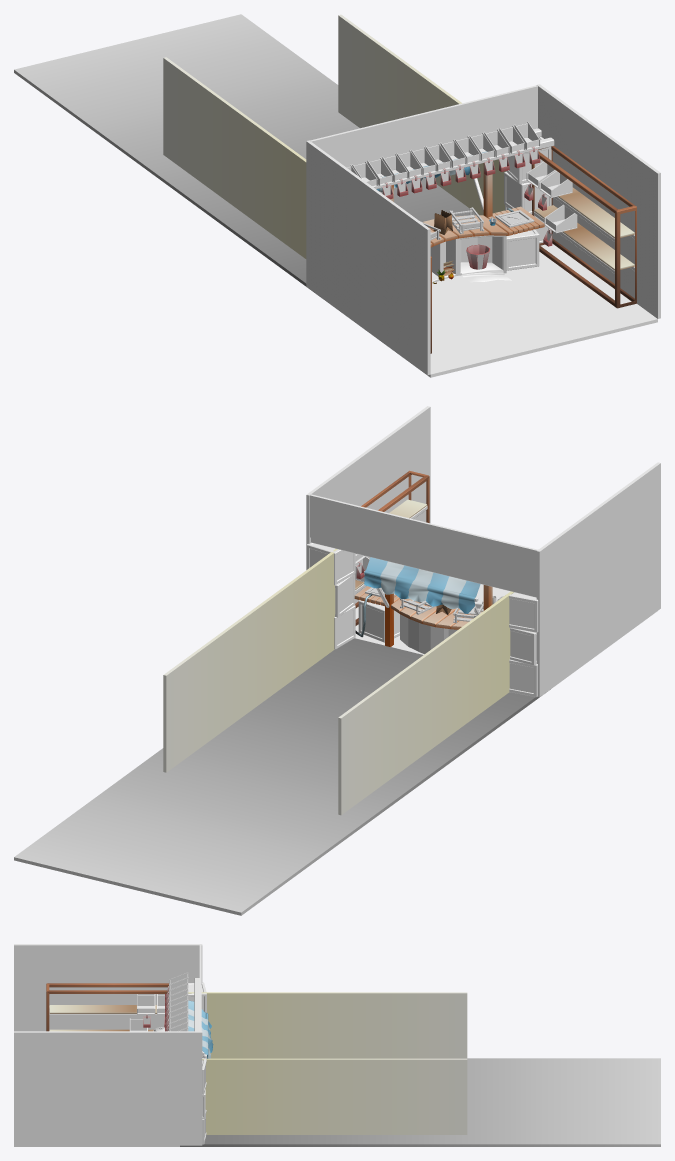
File: FreshFruitsKameral.fbx
3 views of the same model, one above another, from view 1: azimuth 30°, elevation 25°; view 2: azimuth 150°, elevation 25°; view 3: azimuth 270°, elevation 25° (orthographic). The views are drawn at different scales.
Parts seen in each view (by area): view 1: Cube.027, Cube.001, Zemin, Cube.005, Cube, Cube.004, Cube.008, RafAnaStrüktür.001, tezgah altı, KutuArkaSağ, Masa üstü tahta, KutuSağ (+6 smaller); view 2: Cube.027, Cube.001, Cube.005, Cube.004, Cube.008, Cube, Çatıörtü, KutuArkaSol, KutuArkaSağ, Masa üstü tahta, Cube.002, tezgah altı (+3 smaller); view 3: Cube, Cube.027, Cube.004, Cube.005, Cube.001, RafAnaStrüktür, Raf, Çatıörtü, KasaPlane.003, KutuArkaSağ, Yatay raf çunuk, Zemin (+1 smaller).
Boxes of the visible parts, x1=… form: Cube.027: x1=14, y1=14, x2=475, y2=298; Cube.001: x1=306, y1=140, x2=430, y2=375; Zemin: x1=325, y1=243, x2=657, y2=377; Cube.005: x1=163, y1=57, x2=306, y2=258; Cube: x1=537, y1=84, x2=660, y2=318; Cube.004: x1=338, y1=14, x2=505, y2=215; Cube.008: x1=310, y1=85, x2=537, y2=167; RafAnaStrüktür.001: x1=531, y1=146, x2=636, y2=308; tezgah altı: x1=430, y1=235, x2=506, y2=283; KutuArkaSağ: x1=504, y1=137, x2=551, y2=243; Masa üstü tahta: x1=423, y1=206, x2=544, y2=247; KutuSağ: x1=506, y1=229, x2=539, y2=270; Cube.027: x1=14, y1=638, x2=550, y2=915; Cube.001: x1=536, y1=462, x2=660, y2=697; Cube.005: x1=338, y1=591, x2=513, y2=815; Cube.004: x1=163, y1=549, x2=337, y2=772; Cube.008: x1=310, y1=494, x2=537, y2=592; Cube: x1=306, y1=406, x2=430, y2=603; Çatıörtü: x1=364, y1=557, x2=480, y2=613; KutuArkaSol: x1=505, y1=591, x2=538, y2=697; KutuArkaSağ: x1=306, y1=542, x2=355, y2=649; Masa üstü tahta: x1=354, y1=586, x2=481, y2=629; Cube.002: x1=311, y1=537, x2=536, y2=597; tezgah altı: x1=400, y1=614, x2=448, y2=654; Cube: x1=14, y1=1031, x2=202, y2=1145; Cube.027: x1=180, y1=1058, x2=660, y2=1146; Cube.004: x1=202, y1=1058, x2=467, y2=1134; Cube.005: x1=188, y1=992, x2=467, y2=1058; Cube.001: x1=14, y1=944, x2=202, y2=1031; RafAnaStrüktür: x1=46, y1=983, x2=168, y2=1031; Raf: x1=49, y1=1005, x2=156, y2=1013; Çatıörtü: x1=188, y1=1000, x2=213, y2=1058; KasaPlane.003: x1=137, y1=994, x2=155, y2=1014; KutuArkaSağ: x1=202, y1=1058, x2=206, y2=1144; Yatay raf çunuk: x1=49, y1=1006, x2=164, y2=1016; Zemin: x1=14, y1=1145, x2=179, y2=1146.
Bounding box in the file's own units: 7.56 × 4.6 × 23.36.
